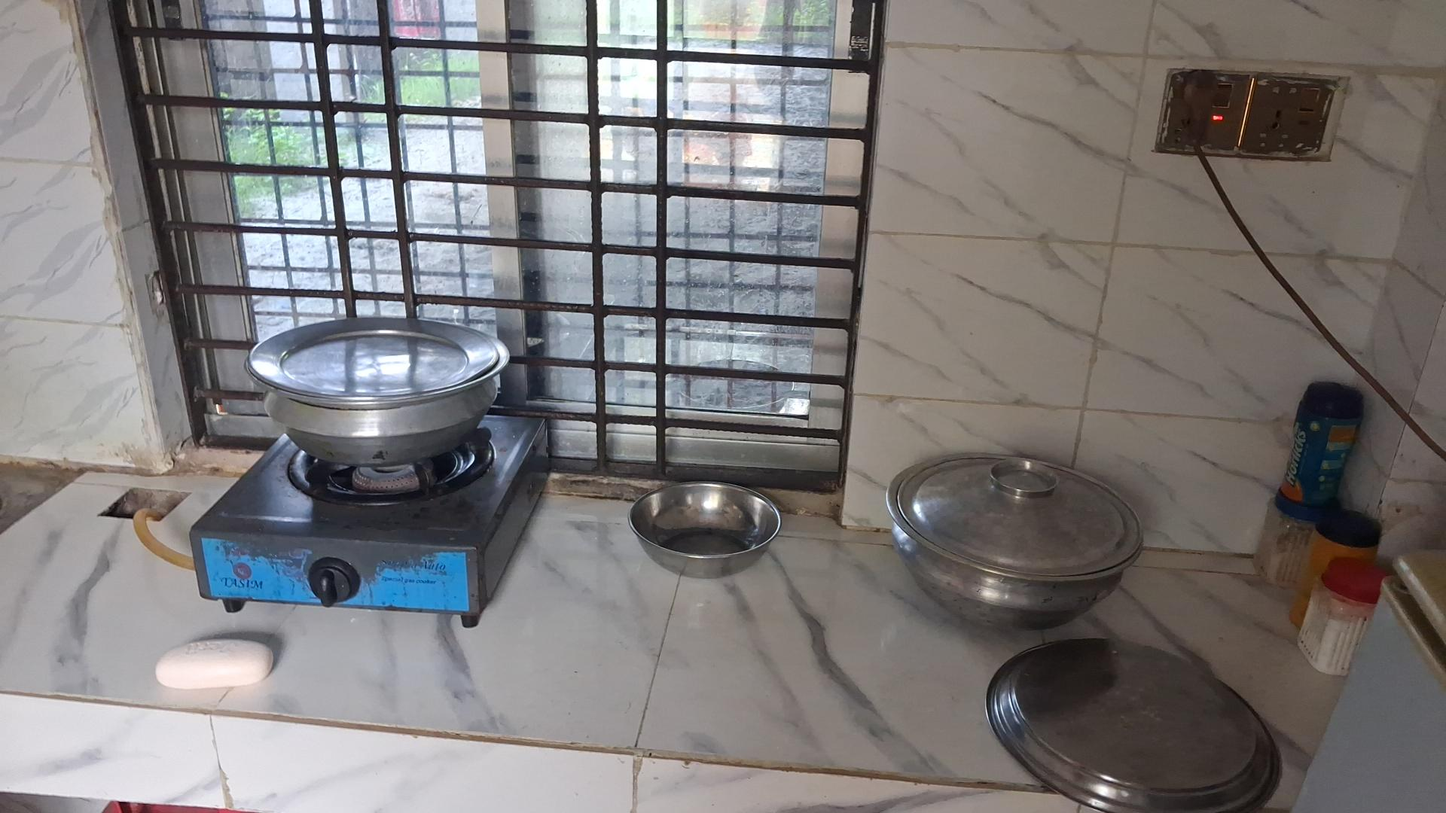Bowl: (628, 482, 782, 579)
Jar: (1276, 376, 1367, 517), (1299, 551, 1387, 670)
Plate: (984, 647, 1276, 813)
Pot: (886, 449, 1145, 631), (253, 323, 511, 477)
Soap: (155, 638, 275, 692)
